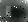person: (7, 7, 12, 18)
